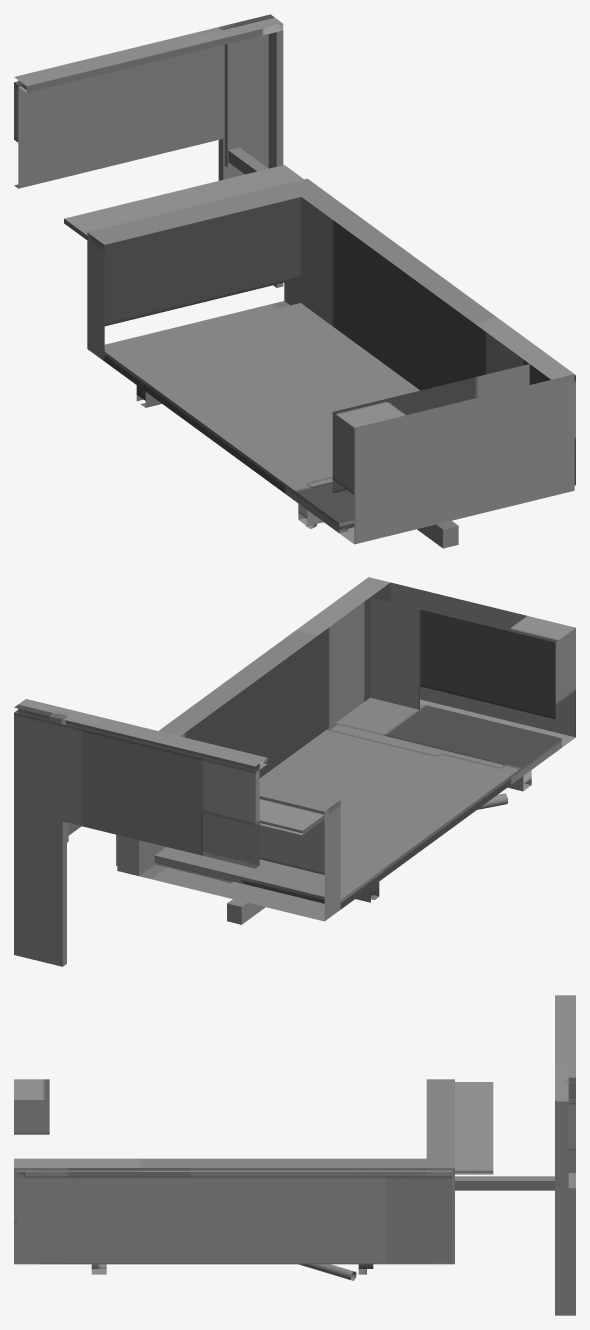
The picture shows the model from 3 angles, top to bottom: view 1: azimuth 30°, elevation 25°; view 2: azimuth 150°, elevation 25°; view 3: azimuth 270°, elevation 25°; orthographic projection. The views are drawn at different scales.
Size of the model in its own units: 0.99 by 0.969 by 2.28.
